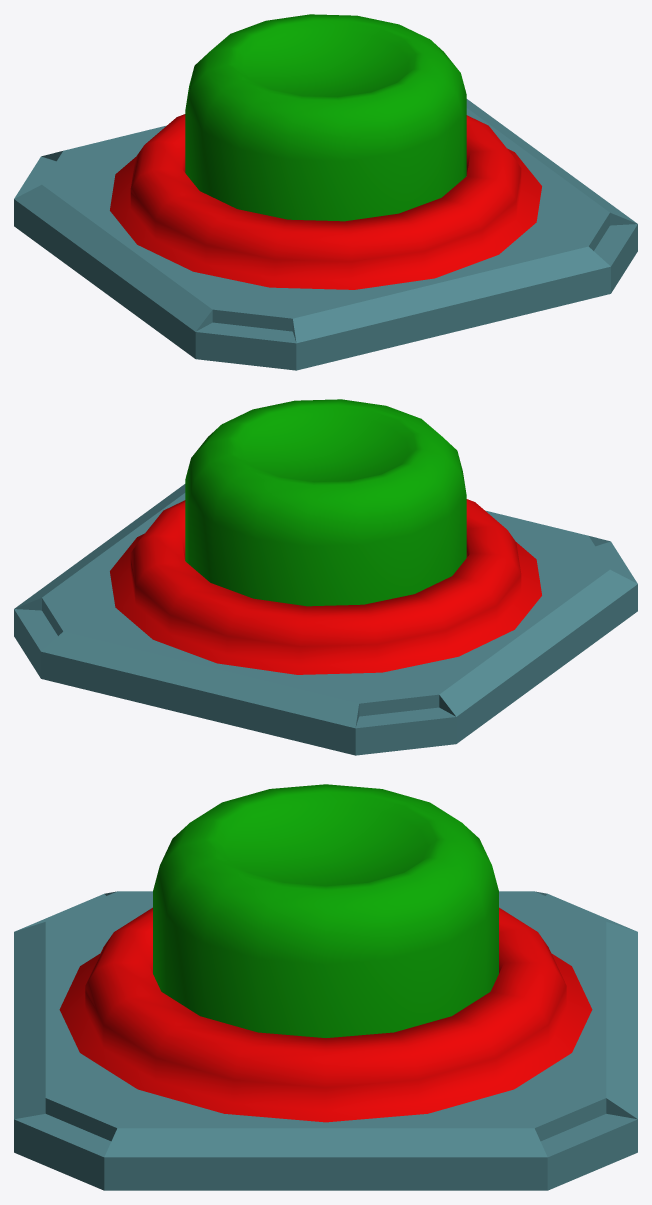
Rendered from Airport_Button.fbx.
3 renders of one model, top to bottom at view 1: azimuth 30°, elevation 25°; view 2: azimuth 150°, elevation 25°; view 3: azimuth 270°, elevation 25°, orthographic. The views are drawn at different scales.
Visible parts, largest first — view 1: Button_Base, Button; view 2: Button_Base, Button; view 3: Button_Base, Button.
Boxes of the visible parts, x1=… form: Button_Base: x1=14, y1=99, x2=637, y2=370; Button: x1=185, y1=14, x2=466, y2=221; Button_Base: x1=14, y1=484, x2=637, y2=755; Button: x1=185, y1=399, x2=466, y2=606; Button_Base: x1=14, y1=891, x2=637, y2=1190; Button: x1=153, y1=784, x2=498, y2=1037.
Bounding box in the file's own units: 1.04 × 0.4045 × 1.04.
